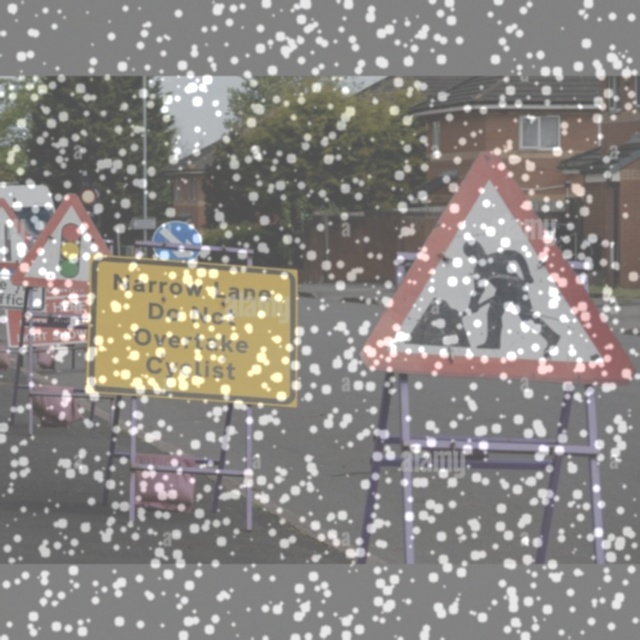Men_at_Work: (360, 136, 633, 388)
